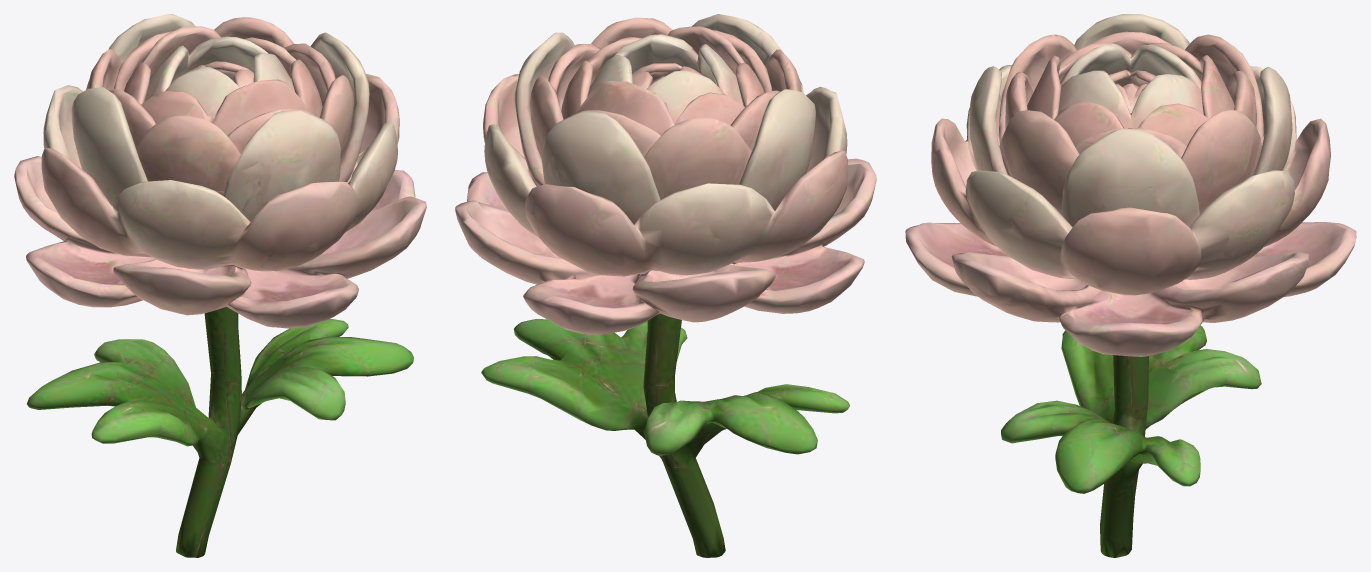
3 renders of one model, left to right at view 1: azimuth 30°, elevation 25°; view 2: azimuth 150°, elevation 25°; view 3: azimuth 270°, elevation 25°, orthographic. The views are drawn at different scales.
Size of the model in its own units: 1.52 by 1.9 by 1.51.
1 material, 1 textured.
